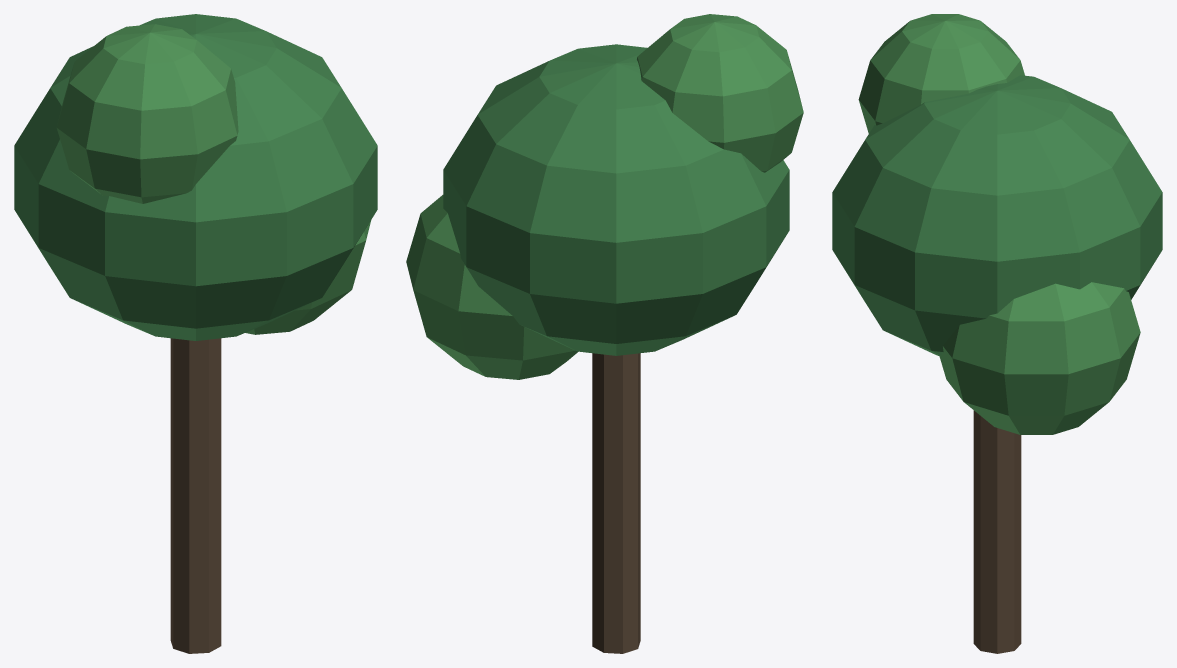
File: tree_round.glb
3 renders of one model, left to right at view 1: azimuth 30°, elevation 25°; view 2: azimuth 150°, elevation 25°; view 3: azimuth 270°, elevation 25°, orthographic. The views are drawn at different scales.
Parts seen in each view (by area): view 1: tree_round; view 2: tree_round; view 3: tree_round.
Boxes of the visible parts, x1,y1,x2,y2 form: tree_round: (14,14,377,653); tree_round: (406,14,803,653); tree_round: (832,14,1162,653).
Bounding box in the file's own units: 1.64 × 3 × 1.52.
